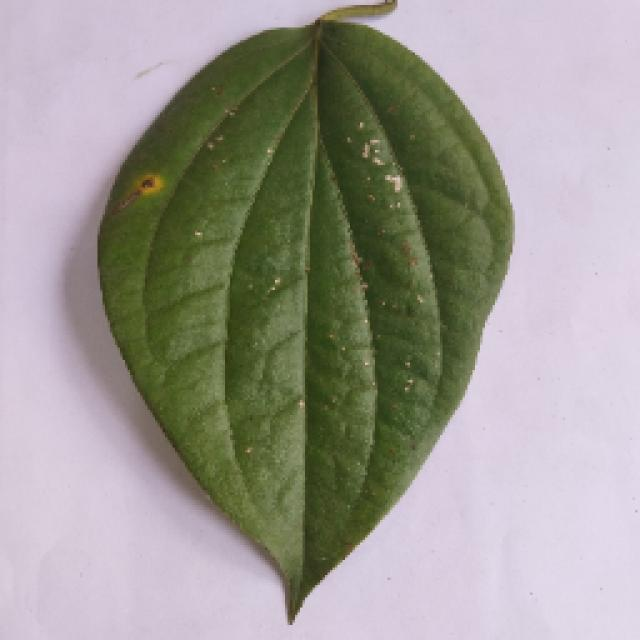pollu-disease: (72, 18, 532, 620)
